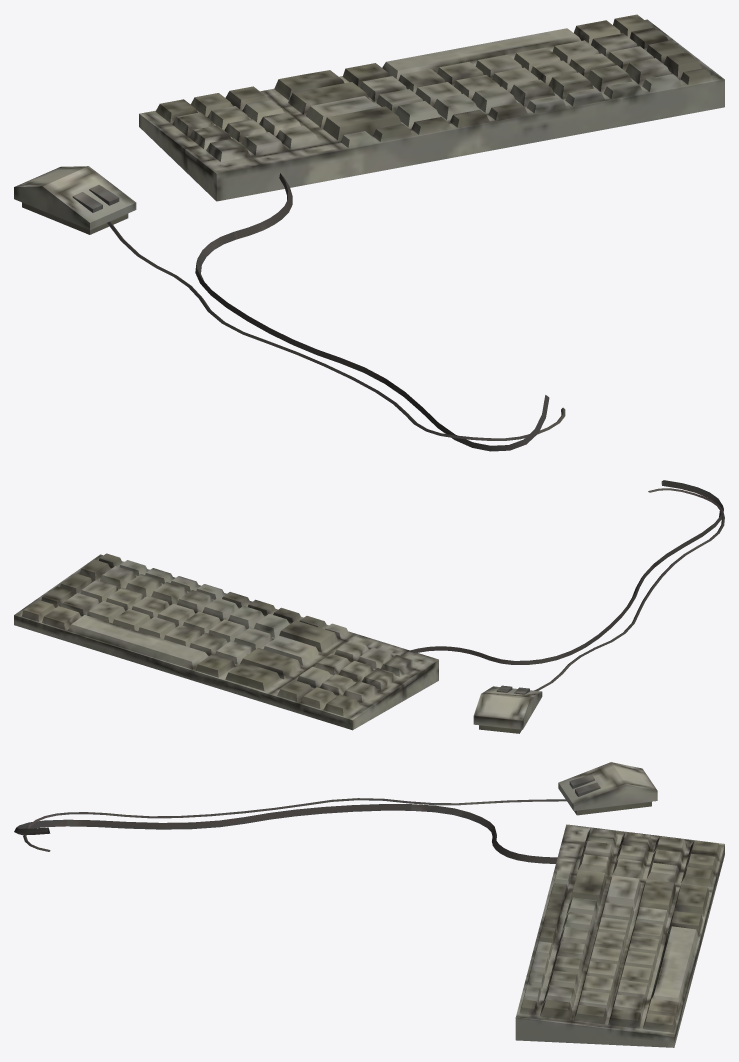
Rendered from klaviatera.fbx.
3 views of the same model, one above another, from view 1: azimuth 30°, elevation 25°; view 2: azimuth 150°, elevation 25°; view 3: azimuth 270°, elevation 25° (orthographic). The views are drawn at different scales.
Visible parts, largest first — view 1: Boxes.015; view 2: Boxes.015; view 3: Boxes.015.
Boxes of the visible parts, x1,y1,x2,y2 form: Boxes.015: (14, 14, 724, 451); Boxes.015: (14, 480, 724, 733); Boxes.015: (14, 762, 724, 1047).
Size of the model in its own units: 72.65 by 4.36 by 82.78.
